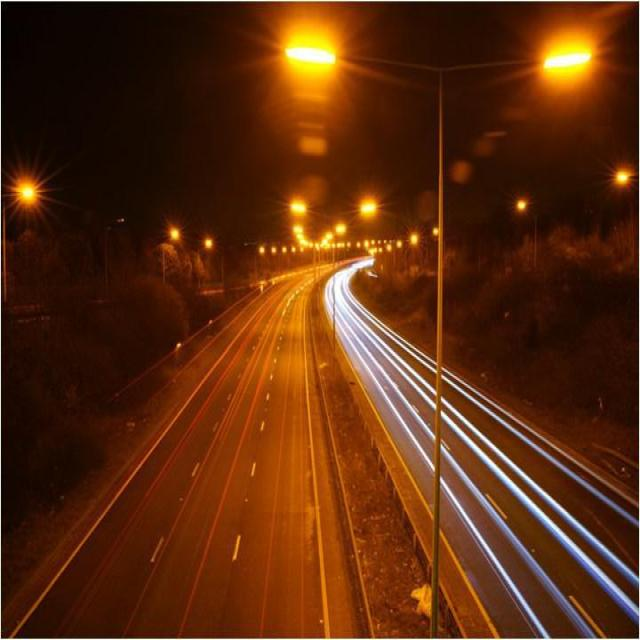other: (250, 185, 404, 251), (524, 21, 601, 96), (275, 22, 351, 86)
